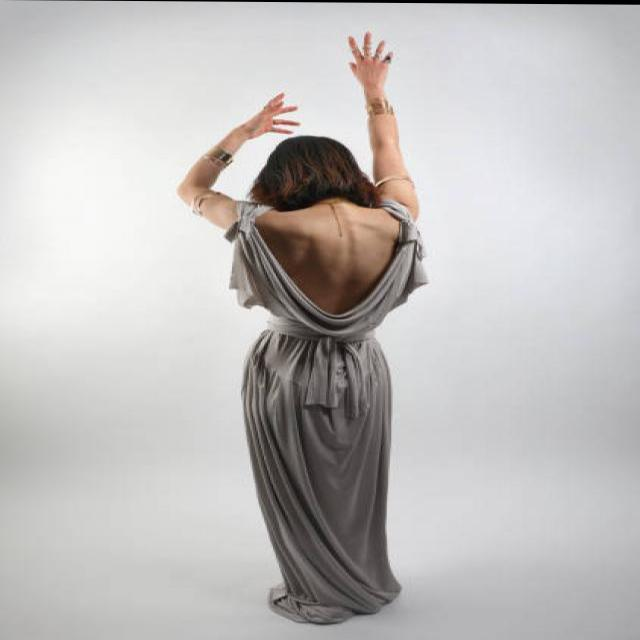no helmet: (228, 120, 382, 224)
